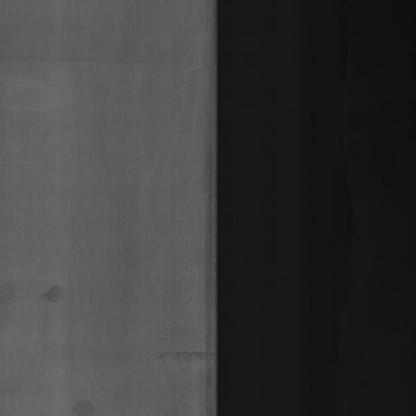oil_spot: (35, 278, 77, 309), (69, 384, 99, 416)
